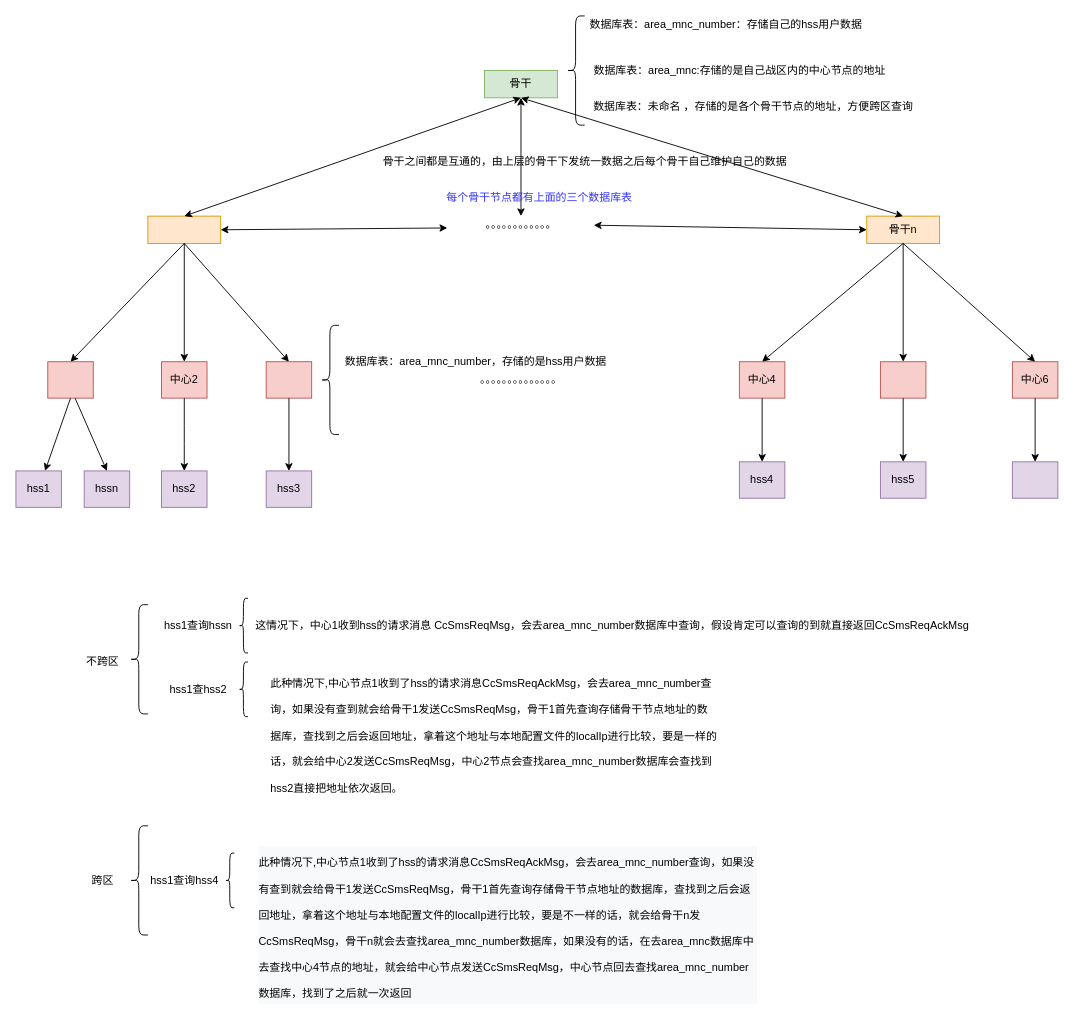
This 1074x1035 diagram has some shape labels left out. The box of each missing label's shape, as (x1, y1, x2, y2) in pixels:
hss6: (1011, 461, 1058, 498)
中心1: (47, 361, 93, 398)
中心3: (265, 361, 312, 398)
中心5: (880, 361, 926, 398)
骨干1: (147, 215, 221, 243)
